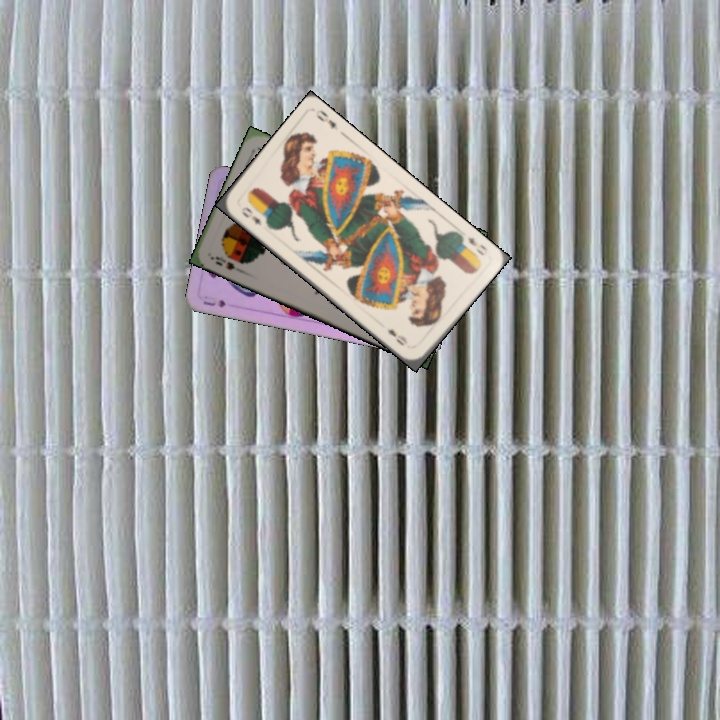EO: (463, 232, 490, 258), (237, 203, 264, 228)
SO: (211, 252, 237, 273)
SU: (199, 296, 228, 310)
